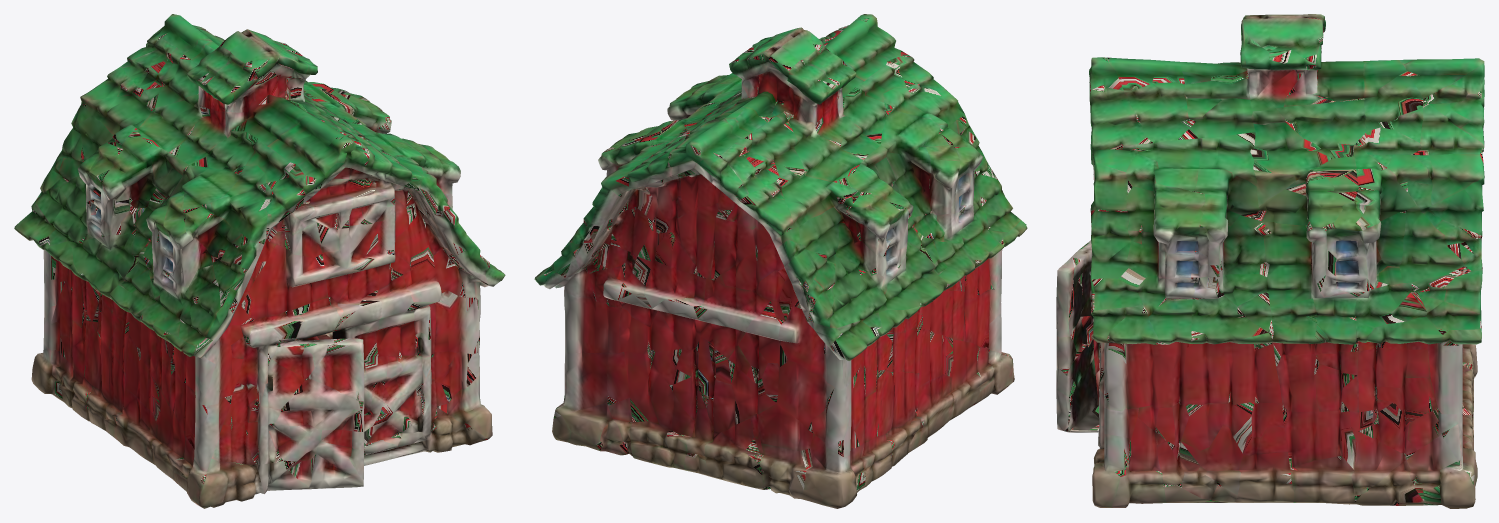
3 renders of one model, left to right at view 1: azimuth 30°, elevation 25°; view 2: azimuth 150°, elevation 25°; view 3: azimuth 270°, elevation 25°, orthographic. The views are drawn at different scales.
Bounding box in the file's own units: 1.72 × 1.9 × 1.78.
1 material, 1 textured.
